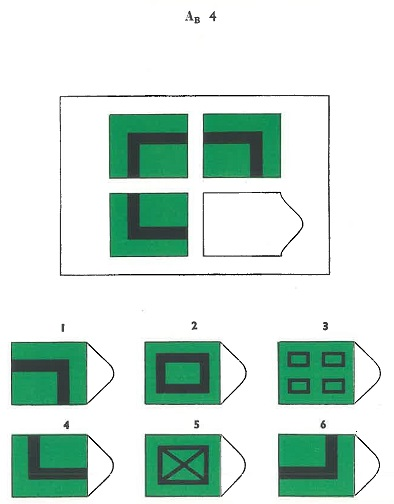Array 1: (8, 318, 117, 409)
Array 2: (141, 316, 251, 409)
Array 3: (273, 318, 383, 408)
Array 4: (8, 416, 118, 500)
Array 5: (141, 415, 249, 500)
Array 6: (274, 414, 383, 501)
Matrix 1: (103, 108, 193, 181)
Matrix 2: (199, 109, 287, 182)
Matrix 3: (104, 187, 193, 260)
Matrix Unknown: (199, 188, 306, 260)
